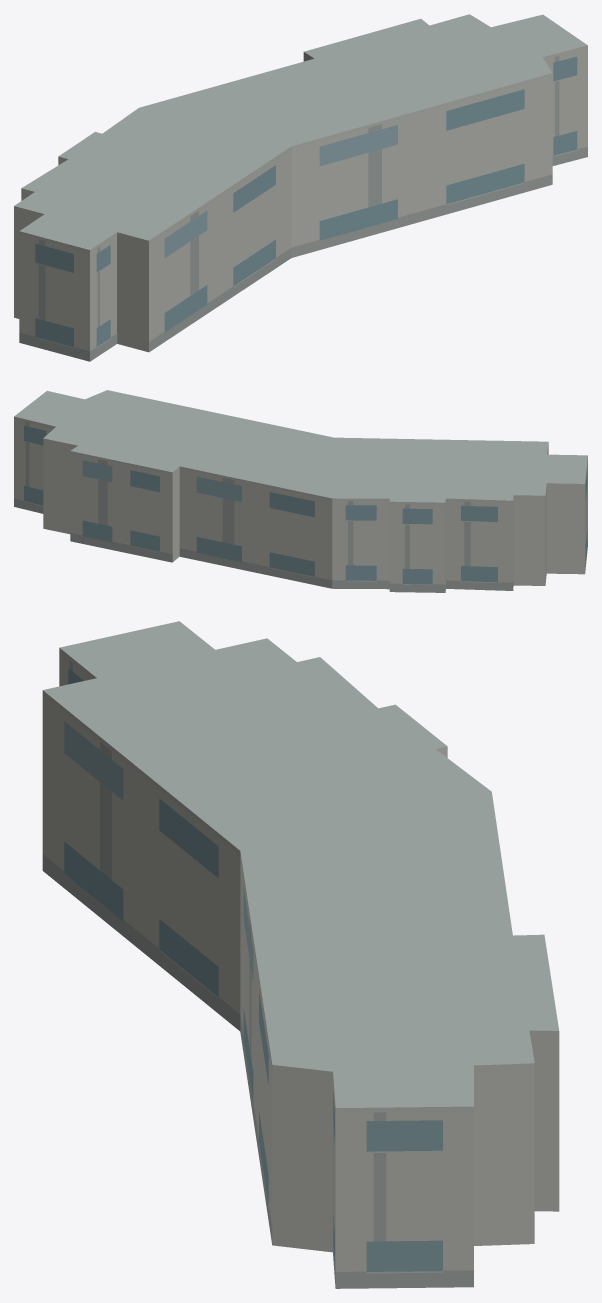
The model's file is residential-ffcd8722-9180-47a6-86e6-e1fe49446d0d.glb.
3 views of the same model, one above another, from view 1: azimuth 30°, elevation 25°; view 2: azimuth 150°, elevation 25°; view 3: azimuth 270°, elevation 25° (orthographic). The views are drawn at different scales.
Parts seen in each view (by area): view 1: residential-ffcd8722-9180-47a6-86e6-e1fe49446d0d.tmp; view 2: residential-ffcd8722-9180-47a6-86e6-e1fe49446d0d.tmp; view 3: residential-ffcd8722-9180-47a6-86e6-e1fe49446d0d.tmp.
Part boxes in pixels (bbox=[...]): residential-ffcd8722-9180-47a6-86e6-e1fe49446d0d.tmp: bbox=[14, 14, 587, 361]; residential-ffcd8722-9180-47a6-86e6-e1fe49446d0d.tmp: bbox=[14, 390, 587, 592]; residential-ffcd8722-9180-47a6-86e6-e1fe49446d0d.tmp: bbox=[42, 621, 559, 1288].
Size of the model in its own units: 52.91 by 9.15 by 23.72.
